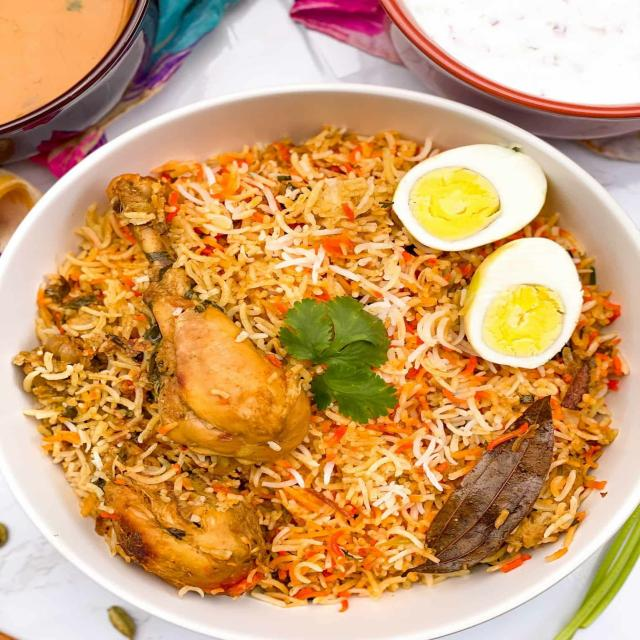Biryani: (11, 125, 640, 613)
